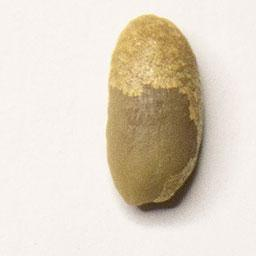longberry: (103, 10, 209, 212)
